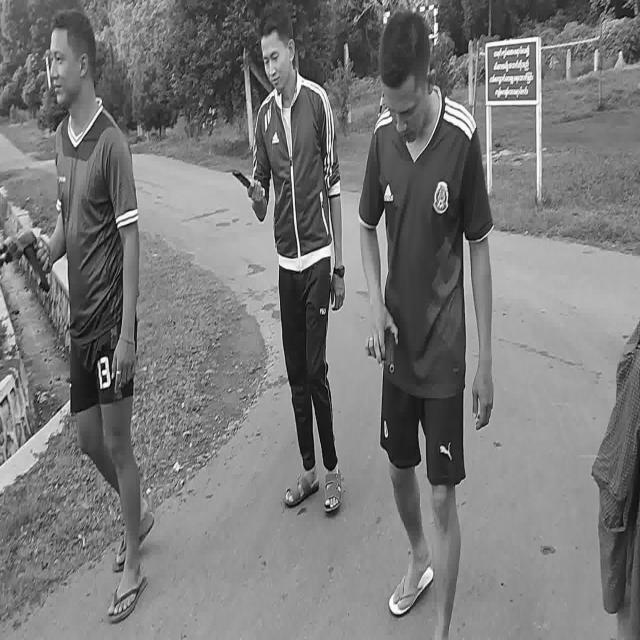gun: (0, 232, 51, 292), (384, 330, 394, 372)
